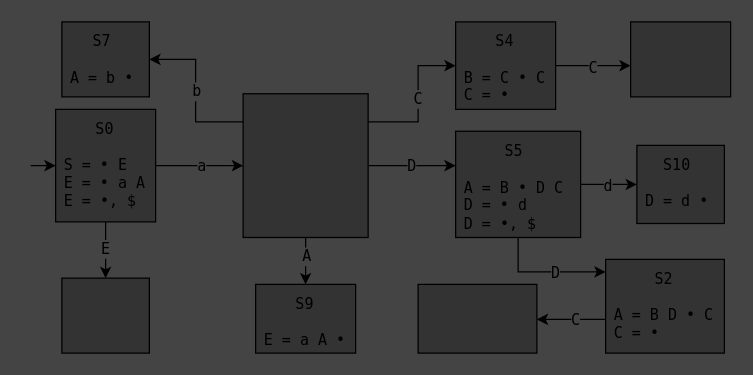
This 753x375 diagram has some shape labels left out. Each missing label, with the centre of its shape:
S1 A = B D C •: point (477, 318)
S3 B = C C •: point (680, 59)
S8 S = E •: point (105, 315)
S9 E = a • A A = • B D C A = • b B = • C C C = •, d$: point (305, 165)
